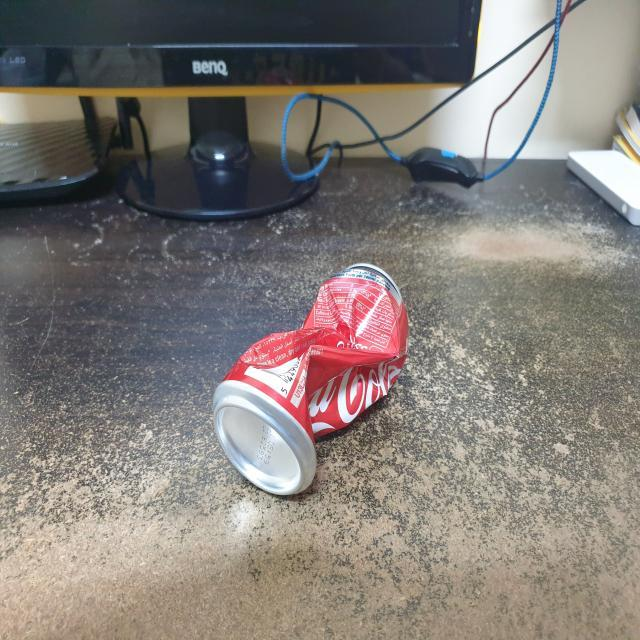can: (200, 246, 422, 506)
